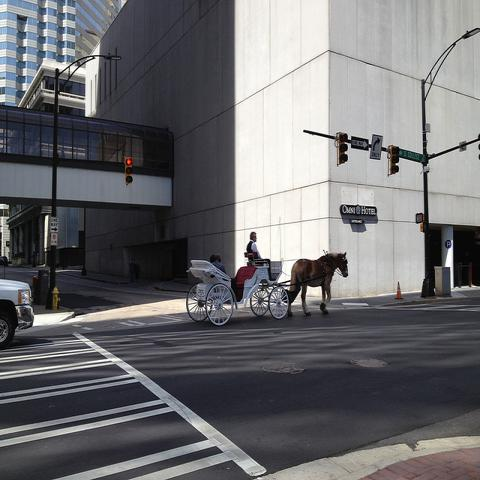car: (0, 282, 35, 352)
truck: (0, 278, 34, 349)
